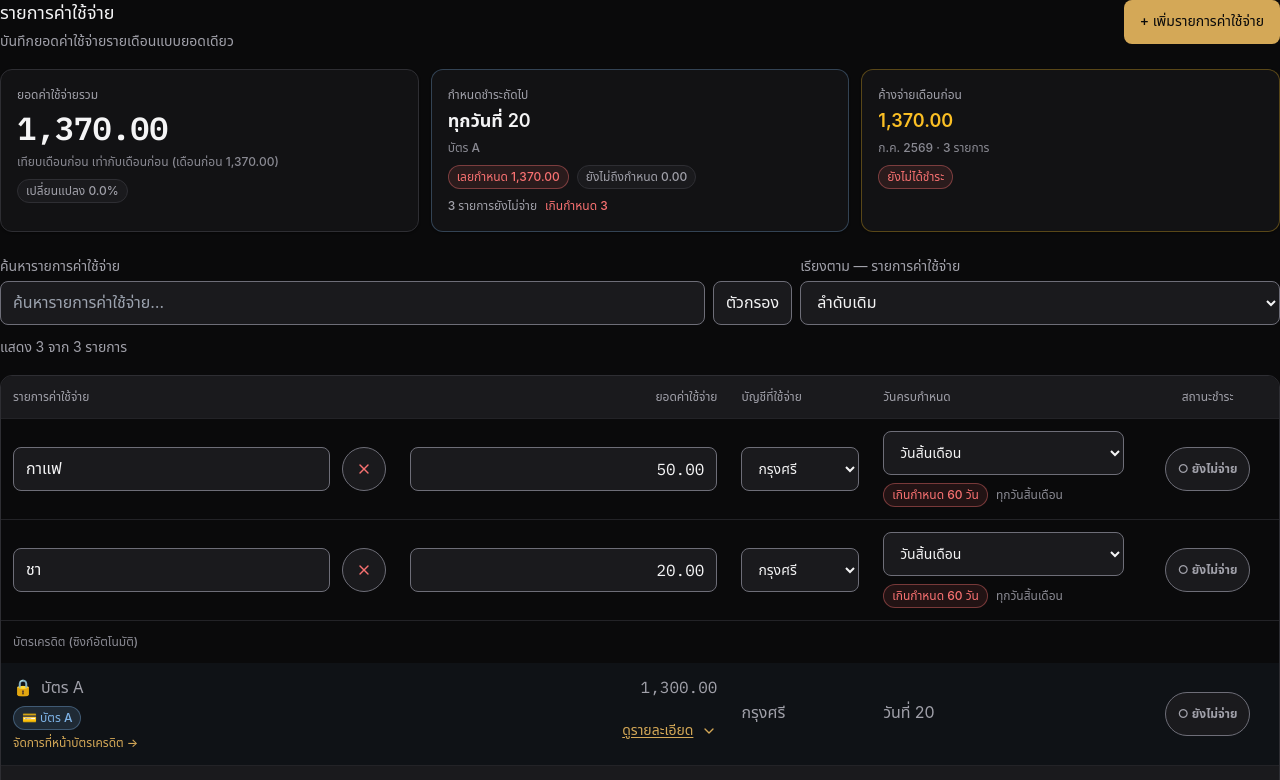
Test: ExpenseTable optimistic paid toggle (ADR-028) › closes stale details when the selected month changes
This screenshot has width=1280, height=780.
Click the button "ดูรายละเอียด": (670, 731) 622,709 -> 717,753
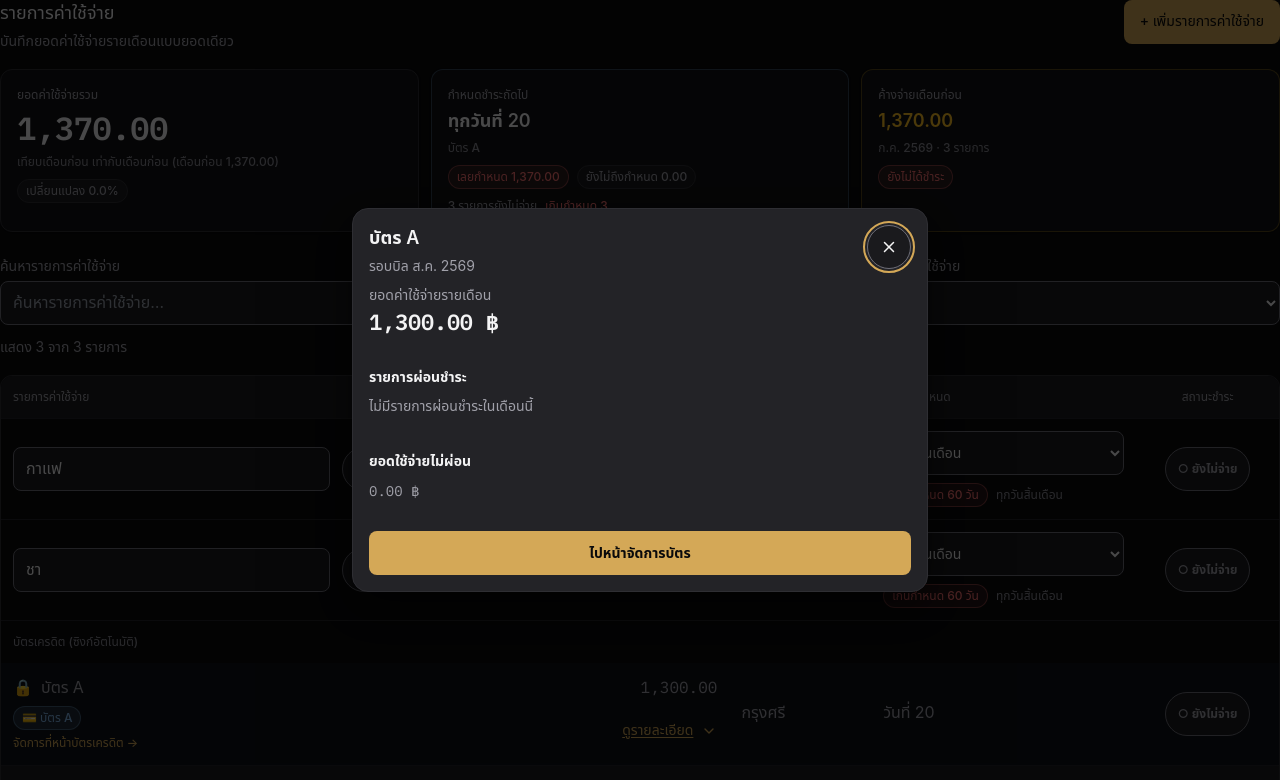
Now the dialog "บัตร A" is shown, box 352,208 -> 928,592
